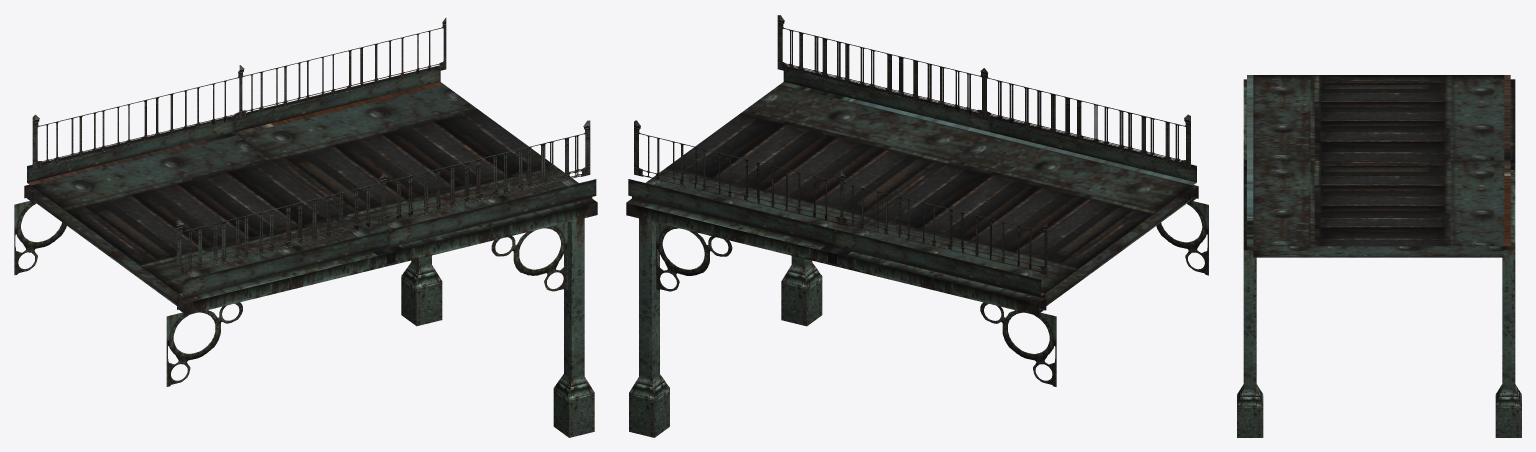
The model's file is TrainBridge.fbx.
3 views of the same model, side by side, from view 1: azimuth 30°, elevation 25°; view 2: azimuth 150°, elevation 25°; view 3: azimuth 270°, elevation 25° (orthographic). The views are drawn at different scales.
Visible parts, largest first — view 1: TrainPath01; view 2: TrainPath01; view 3: TrainPath01.
Boxes of the visible parts, x1=… form: TrainPath01: x1=14, y1=18, x2=597, y2=437; TrainPath01: x1=626, y1=15, x2=1208, y2=437; TrainPath01: x1=1237, y1=75, x2=1521, y2=437.
Bounding box in the file's own units: 2.07 × 1.4 × 1.41.
